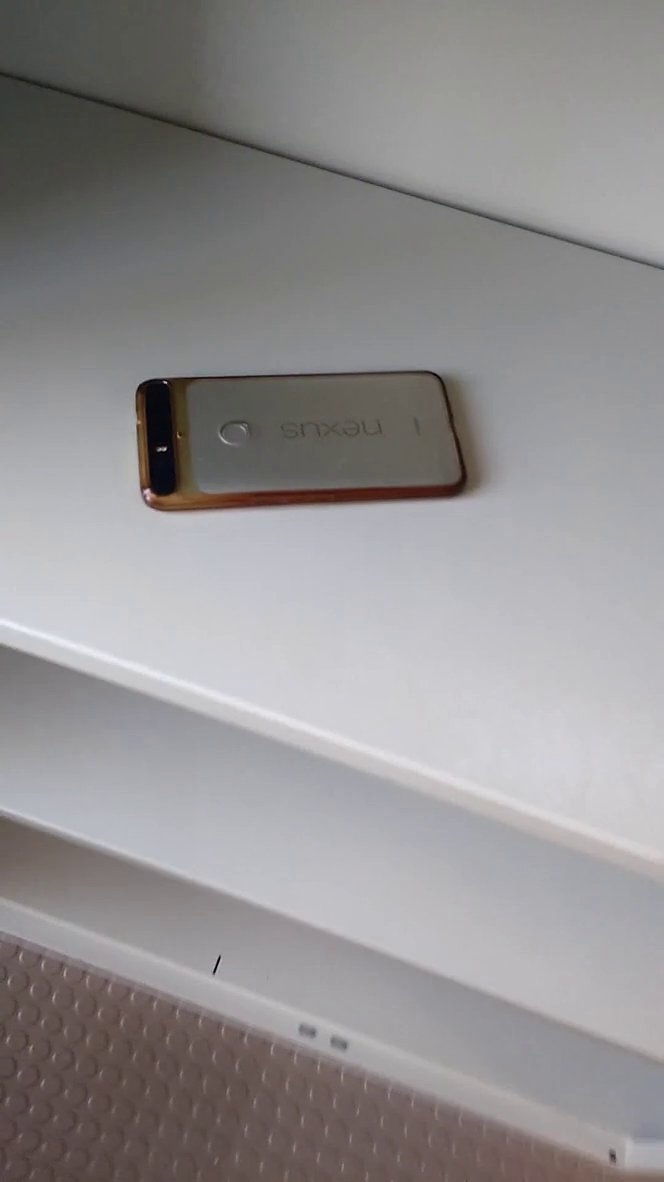phone: (120, 357, 488, 534)
